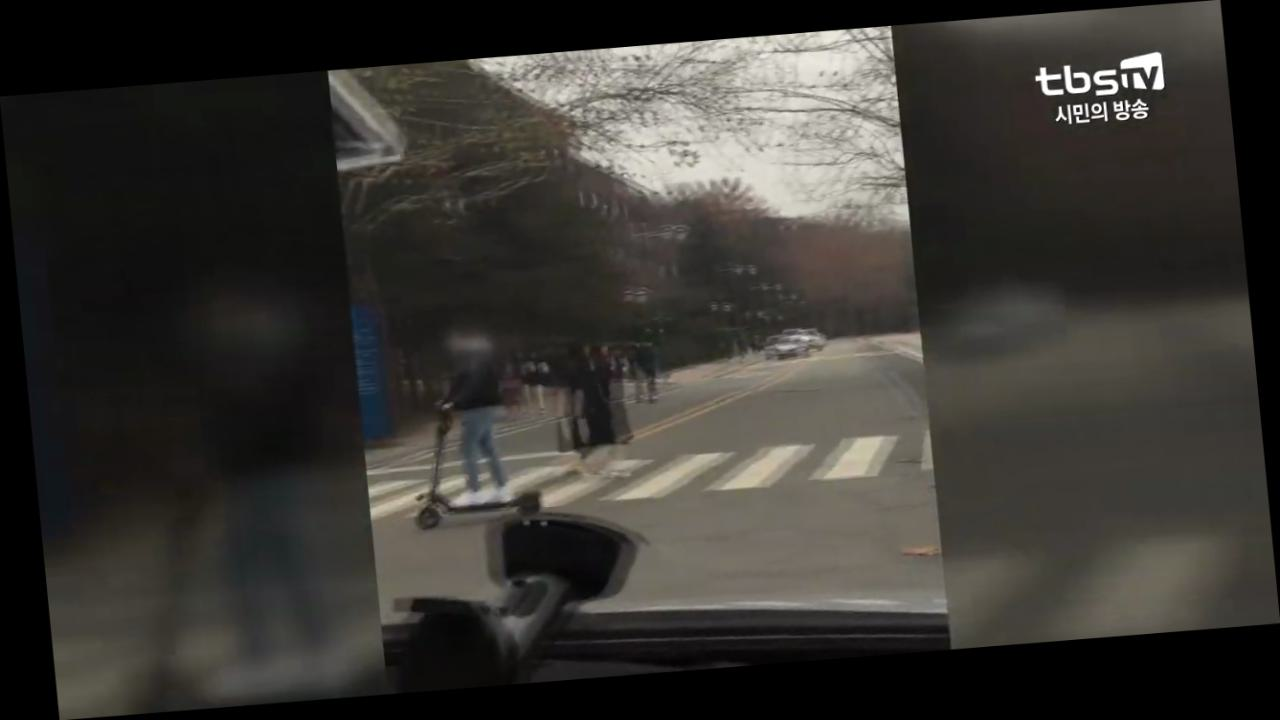nonhelmet: (396, 315, 555, 534)
